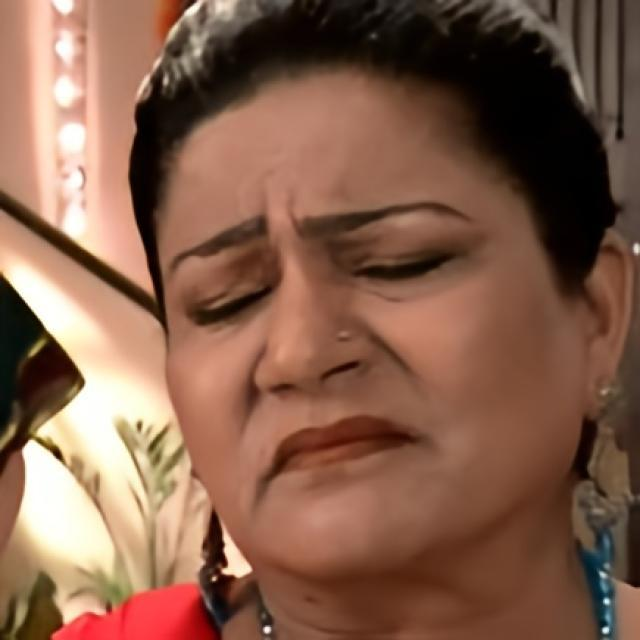disgust: (157, 69, 564, 567)
